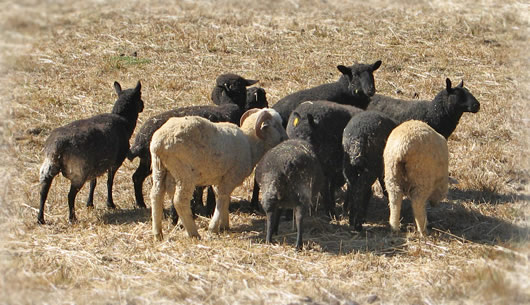sheep: (30, 71, 155, 219), (151, 99, 281, 234), (147, 62, 290, 150), (276, 93, 354, 218), (391, 120, 448, 248), (279, 57, 399, 115), (377, 71, 473, 133), (262, 140, 313, 247)
